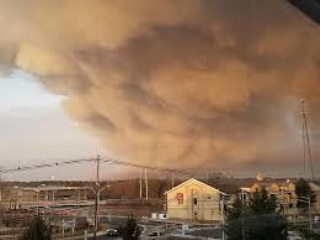smoke: (68, 59, 289, 175)
